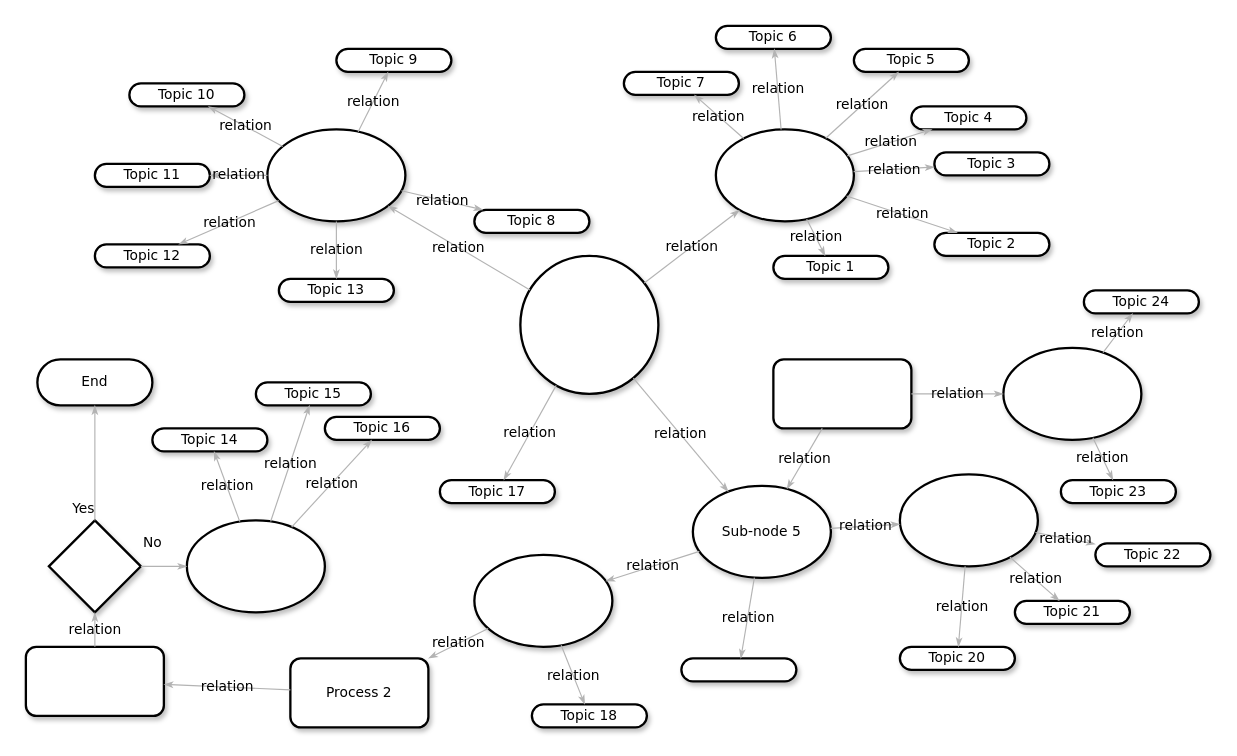
The diagram is 1237 pixels wide and 756 high, and some of its shapes have lost their labels. The shapes that lost their labels are listed below. From the top down, each one's centre as x and y in pixels, then its label:
the point at 337,176: Hypervisor型
the point at 785,176: Host型
the point at 590,326: 仮想
the point at 843,395: Process 1
the point at 1073,395: Sub-node 3
the point at 969,521: Sub-node 4
the point at 95,567: Condition
the point at 256,567: Sub-node 7
the point at 544,602: Sub-node 6
the point at 95,682: Process 3
the point at 739,671: Topic 19
